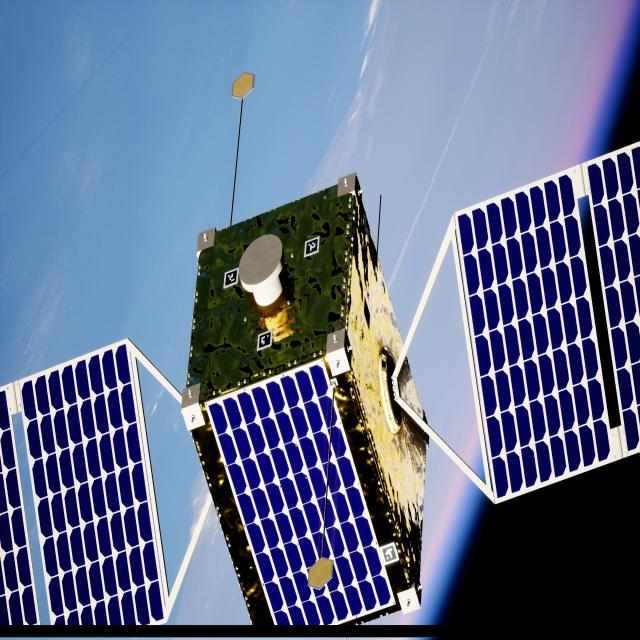medium_debris: (0, 141, 640, 630)
